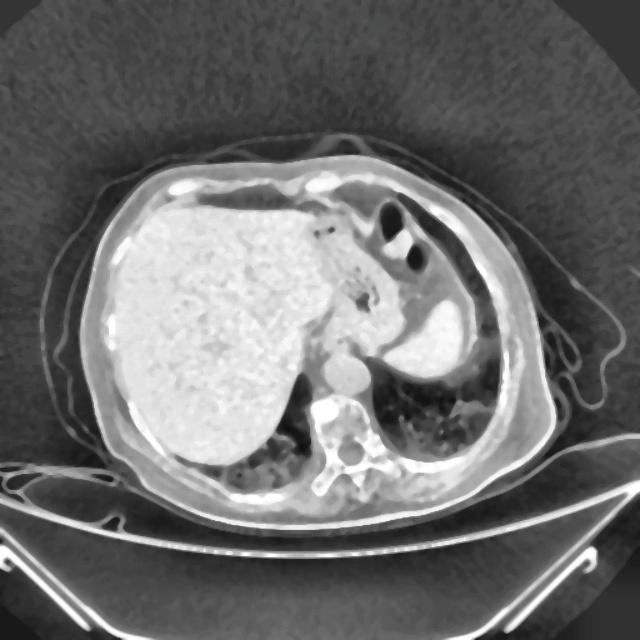covid: (82, 153, 558, 530)
